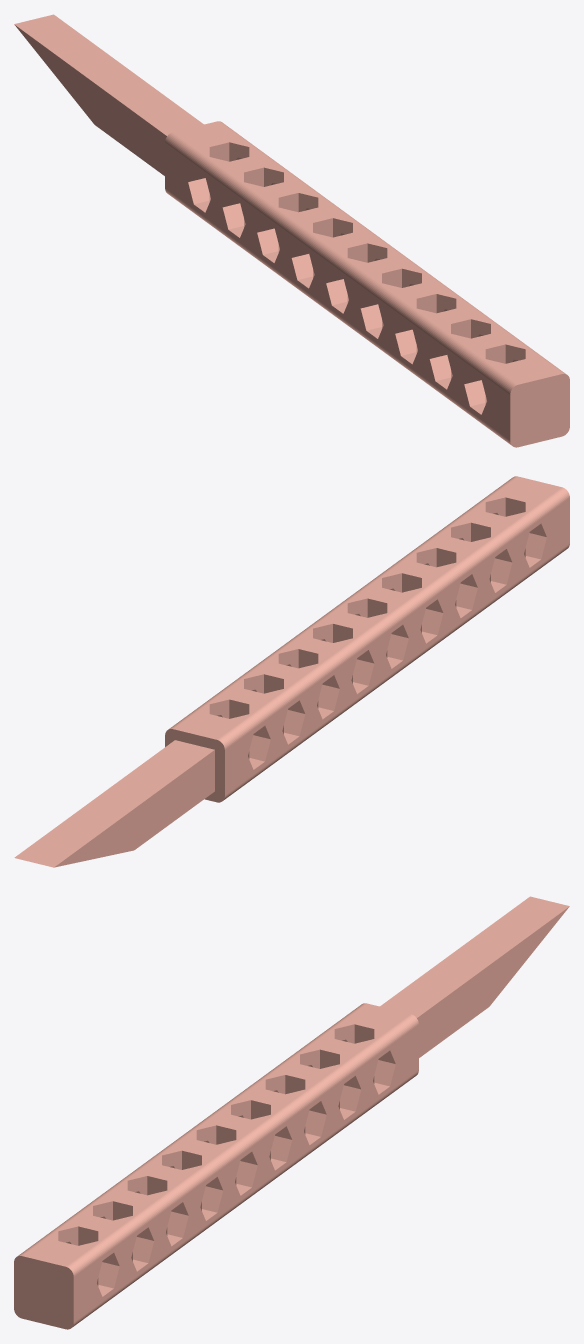
File: Knife Tool v1.glb
The picture shows the model from 3 angles, top to bottom: view 1: azimuth 30°, elevation 25°; view 2: azimuth 150°, elevation 25°; view 3: azimuth 330°, elevation 25°; orthographic projection.
Bounding box in the file's own units: 15 × 15 × 220.
